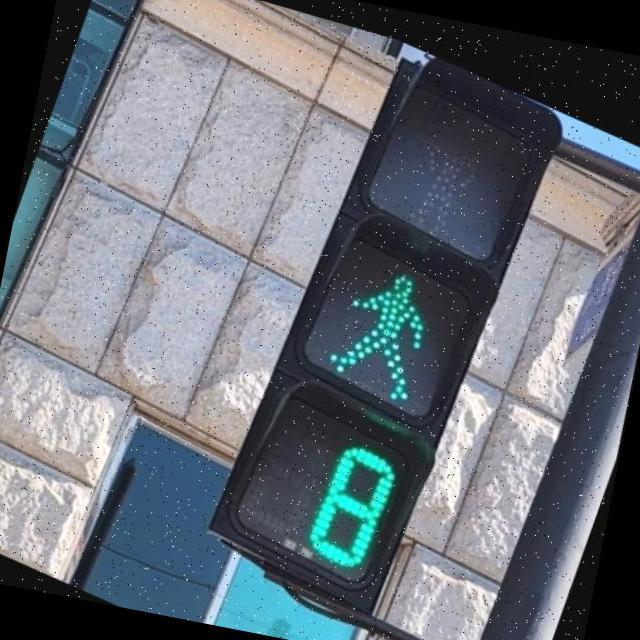greenlight: (280, 36, 563, 453)
